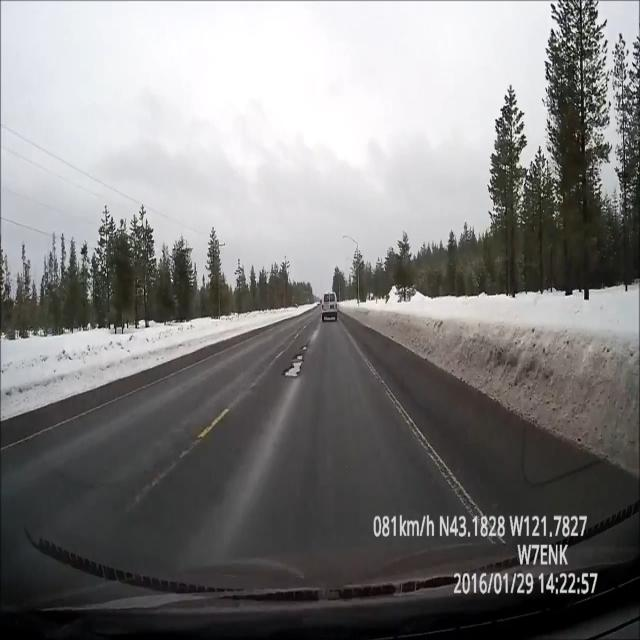Pothole: (278, 338, 310, 387)
